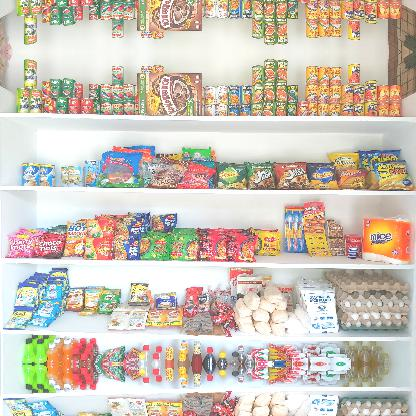Koko-Krunch: (137, 72, 201, 116), (137, 0, 202, 32)
